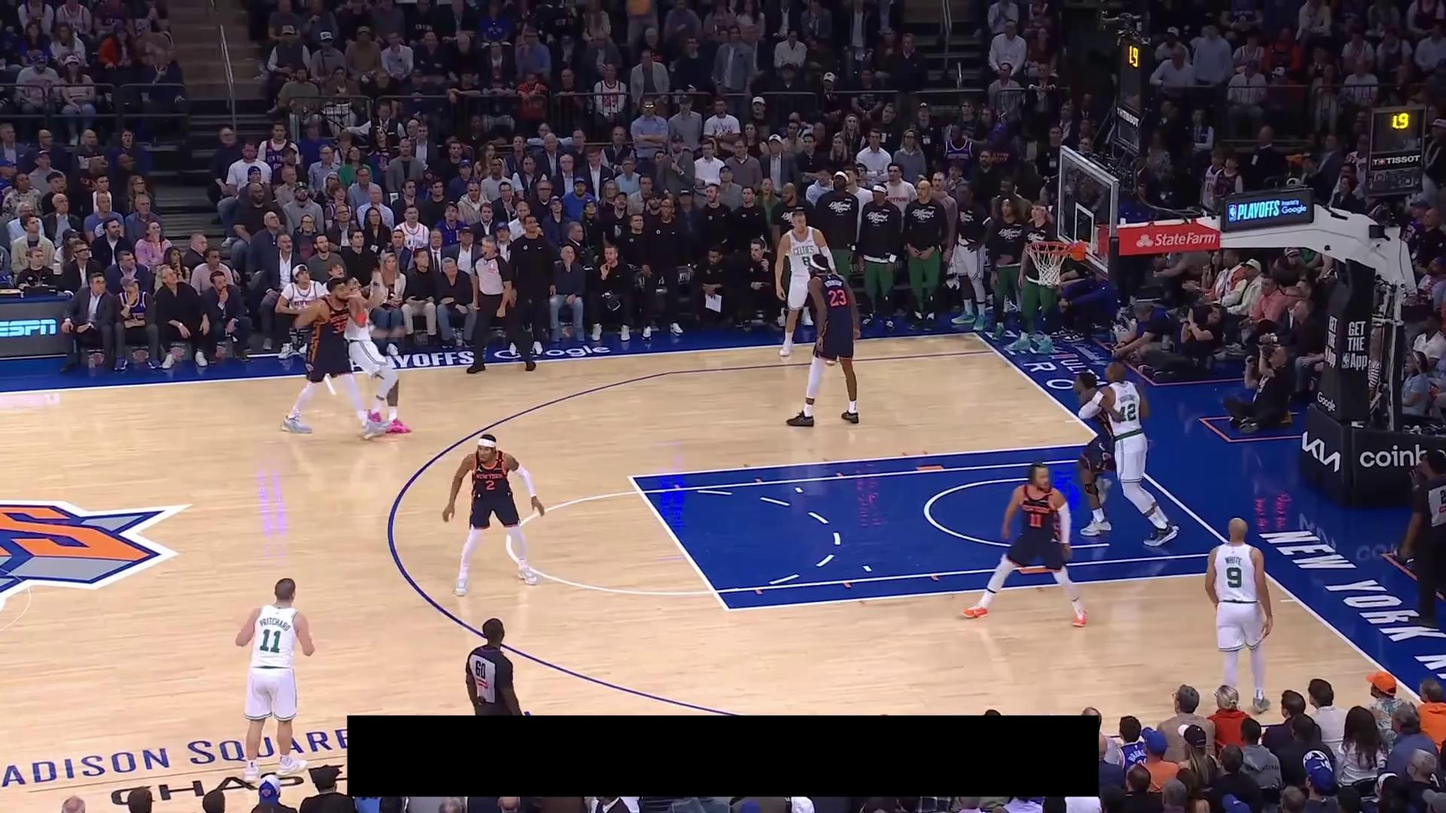ball: (627, 0, 651, 16)
number: (259, 628, 282, 653), (1226, 566, 1243, 589), (828, 288, 847, 307), (1119, 403, 1136, 422), (332, 318, 348, 333), (1029, 513, 1043, 528), (485, 479, 496, 492), (801, 254, 811, 266)
player: (961, 458, 1089, 629), (1078, 357, 1181, 549), (279, 272, 389, 442), (441, 431, 546, 598), (234, 577, 315, 788), (1204, 516, 1275, 716), (785, 251, 862, 428), (346, 271, 413, 437), (774, 208, 840, 358), (1073, 371, 1114, 537)
referee: (465, 235, 536, 374), (1399, 449, 1446, 631), (465, 617, 524, 715)
rim: (1026, 240, 1071, 254)
